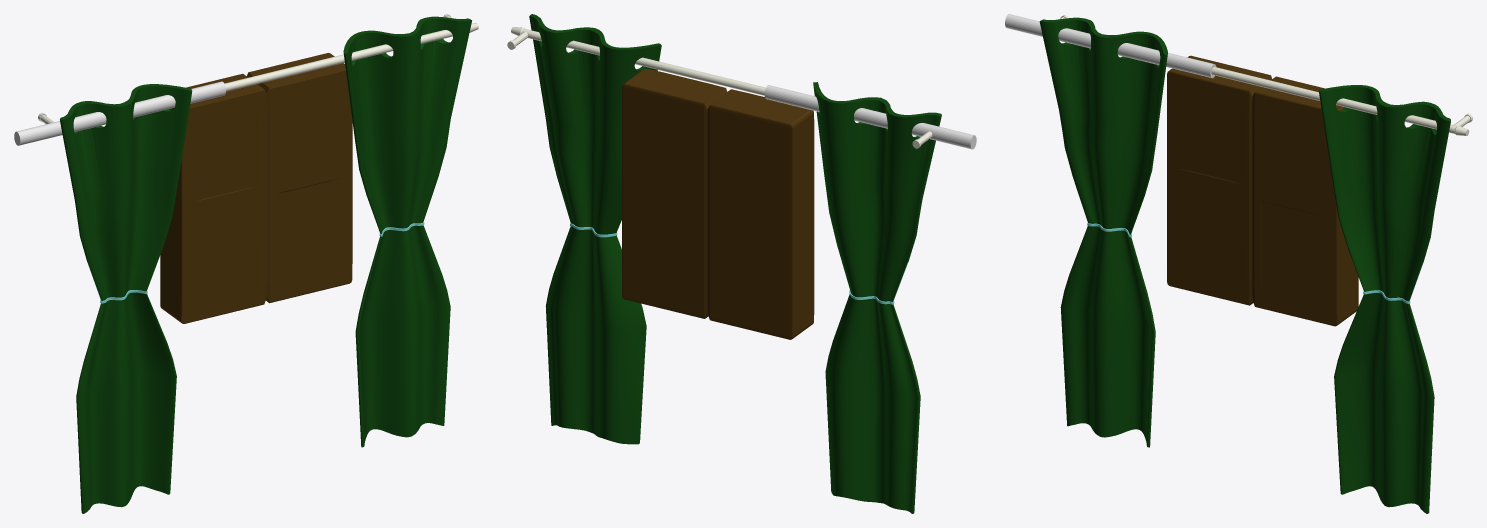
The model's file is perdel_cam.fbx.
The picture shows the model from 3 angles, left to right: view 1: azimuth 30°, elevation 25°; view 2: azimuth 150°, elevation 25°; view 3: azimuth 330°, elevation 25°; orthographic projection.
Visible parts, largest first — view 1: BézierCurve, Cube, Icosphere.002; view 2: BézierCurve, Cube, Icosphere.002; view 3: BézierCurve, Cube, Icosphere.002.
Part boxes in pixels (x1=…): BézierCurve: x1=38, y1=14, x2=478, y2=513; Cube: x1=160, y1=53, x2=352, y2=323; Icosphere.002: x1=14, y1=81, x2=225, y2=145; BézierCurve: x1=507, y1=14, x2=941, y2=513; Cube: x1=622, y1=69, x2=814, y2=339; Icosphere.002: x1=764, y1=85, x2=976, y2=149; BézierCurve: x1=1039, y1=15, x2=1472, y2=513; Cube: x1=1167, y1=55, x2=1358, y2=326; Icosphere.002: x1=1005, y1=14, x2=1216, y2=78.
Bounding box in the file's own units: 447 × 374 × 46.72.
